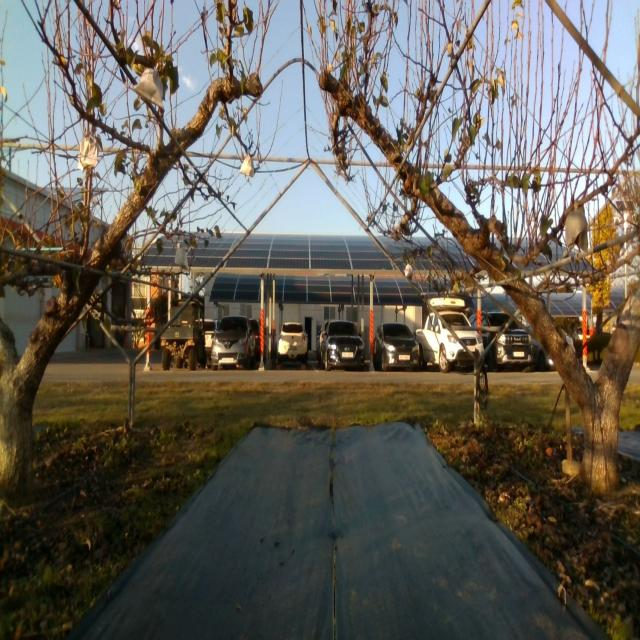pearbags: (134, 68, 164, 110), (567, 209, 588, 255), (77, 135, 98, 167), (240, 154, 254, 178), (175, 249, 189, 271)
